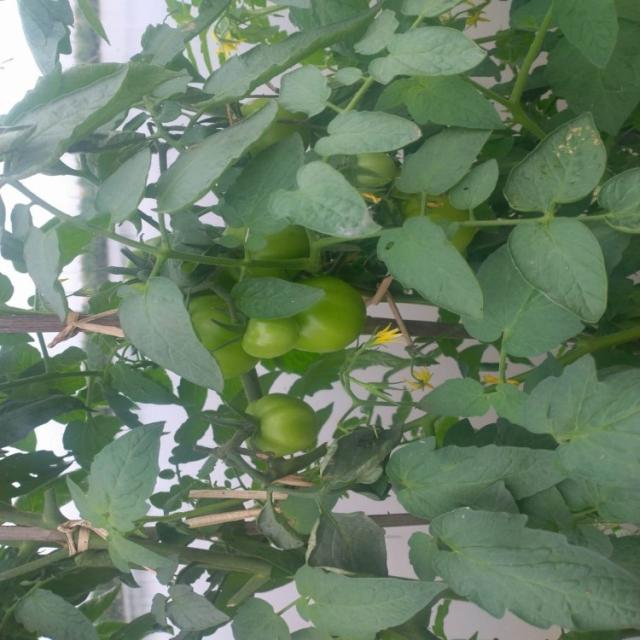tomato: (300, 278, 372, 358), (399, 183, 483, 249), (240, 394, 326, 455), (187, 292, 249, 374), (247, 318, 302, 366), (359, 147, 397, 196)
